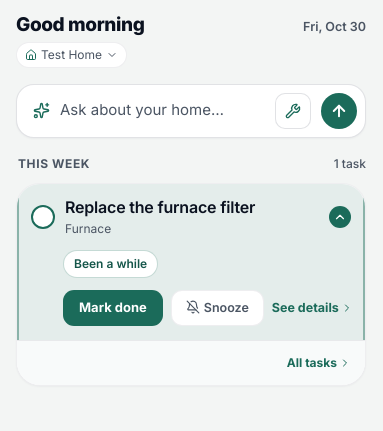
Scenario: Home — a failed check-off or snooze is said on its row › snooze fails → the row says so, the task stays, and nothing says 'Snoozed until'
The image size is (383, 431).
Click the button "Snooze": {"x": 217, "y": 308} x1=171 y1=290 x2=264 y2=326
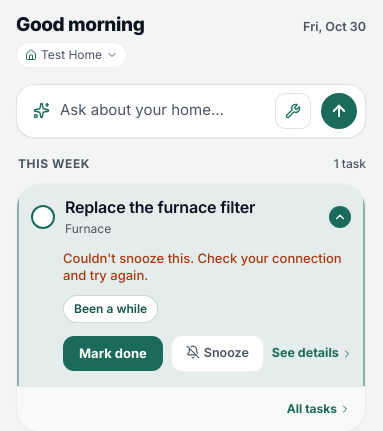
Check: the text "Replace the furnace filter" is shown, box x1=65 y1=196 x2=255 y2=216
Check: the message shows "Couldn't snooze this.", box x1=63 y1=250 x2=342 y2=283
